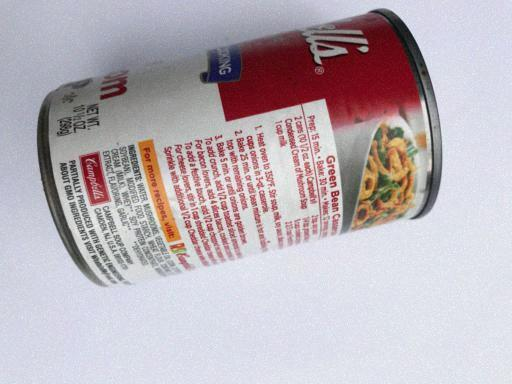metal: (36, 9, 445, 288)
